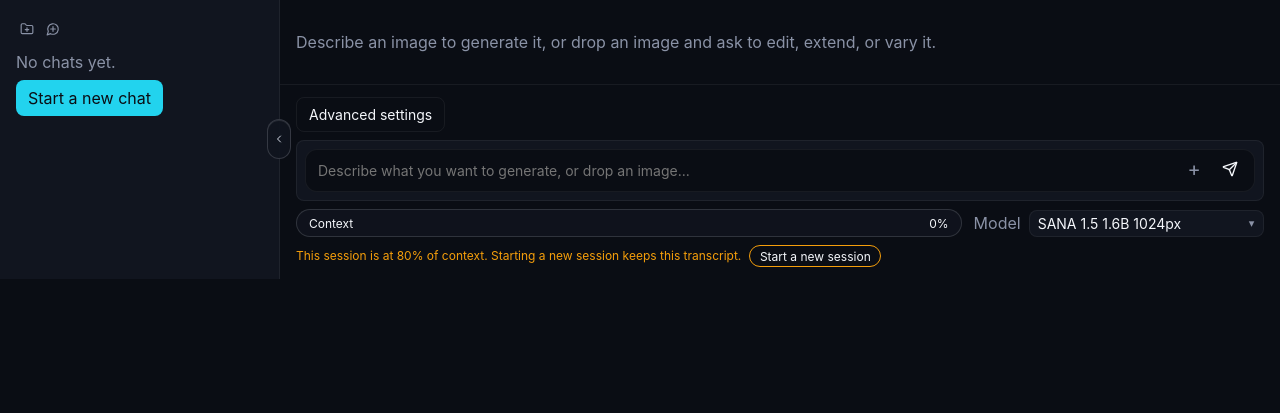
Test case: ImageStudioPage (chat) › turns a complete event without image bytes into a written failure
Step 1. Type "fox" into the text box with test id "media-composer-textarea" → (780, 170), box [306,150,1254,191]
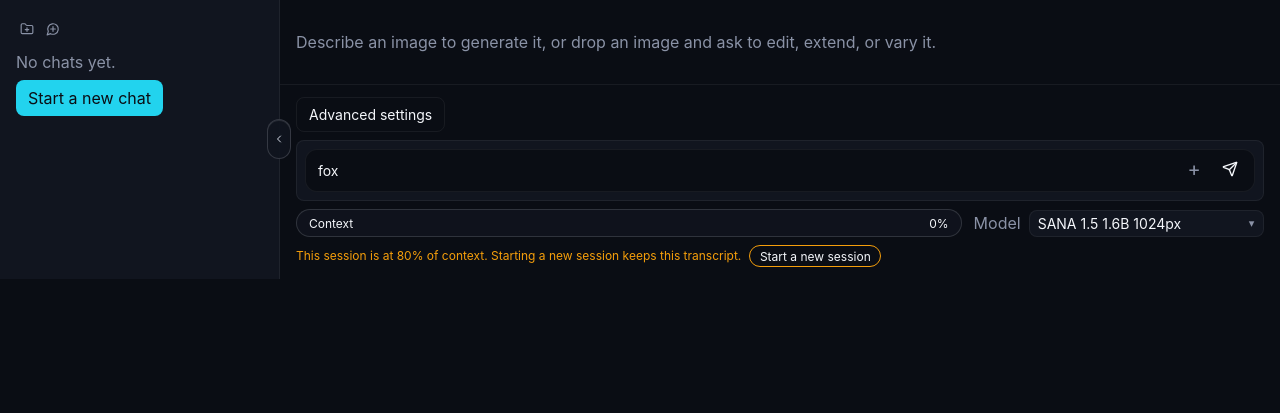
Step 2. Click the button with test id "media-composer-submit" → (1230, 169), box [1214,153,1246,185]
Wait 40 ms
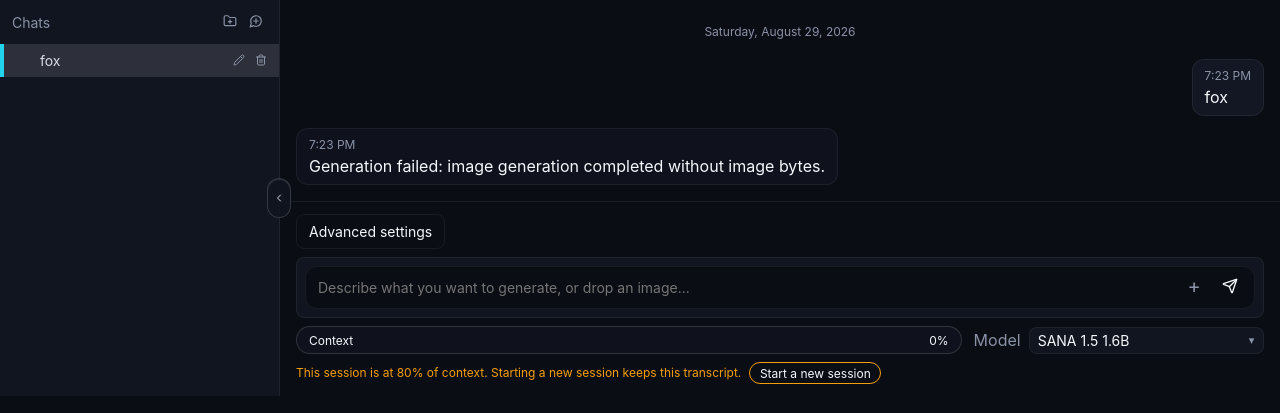
Expected: the text "Generation failed" is shown, [309,156,825,176]
